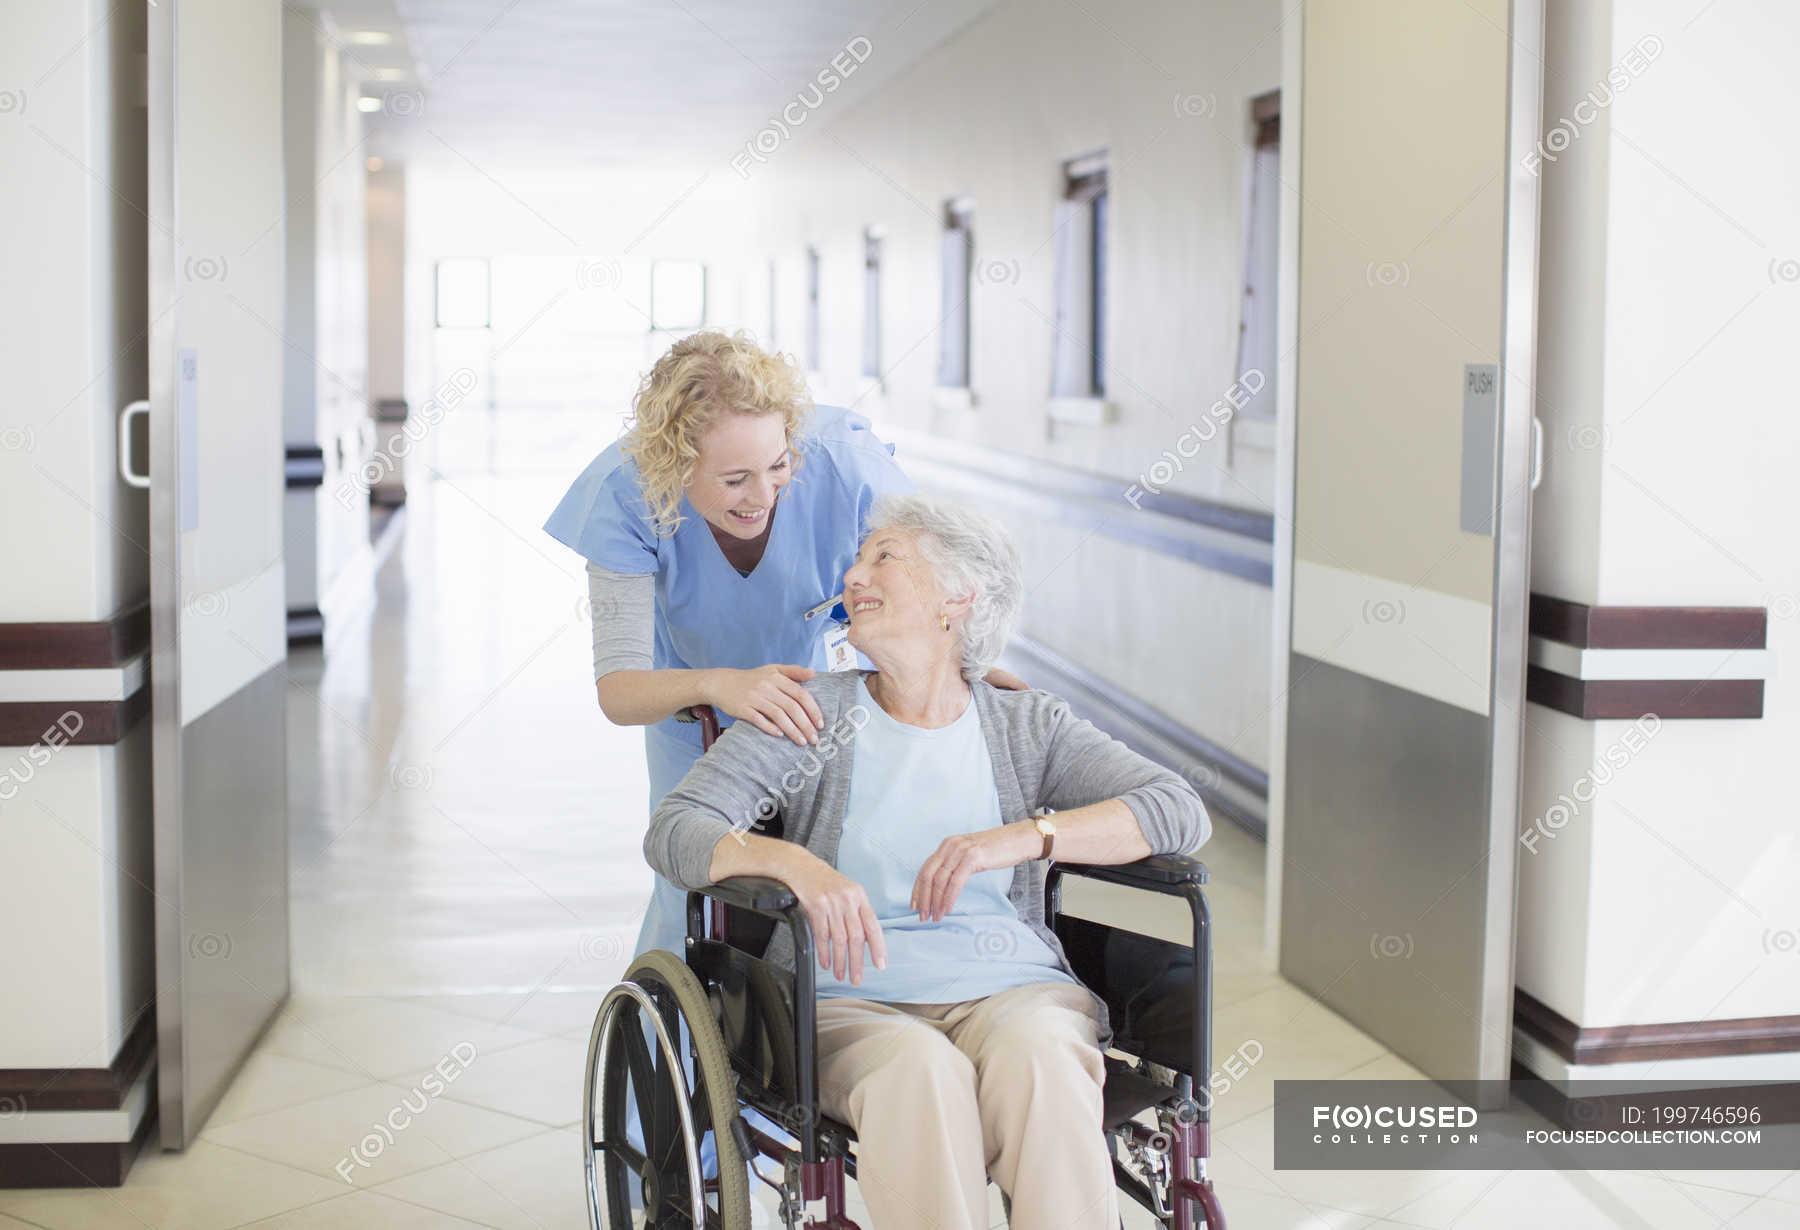wheelchair: (580, 490, 1232, 1230)
